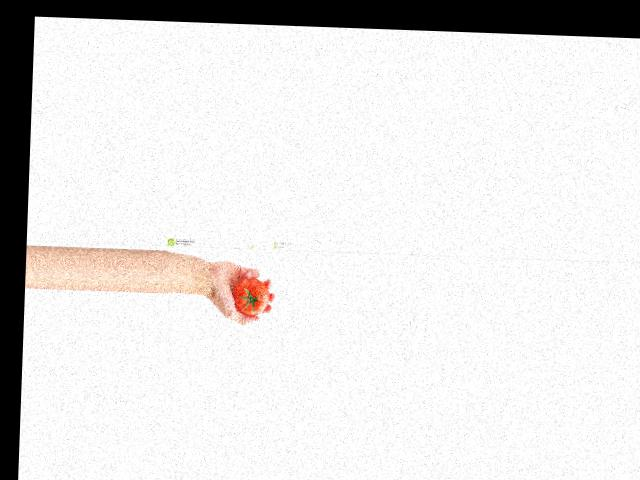tomato: (232, 276, 270, 315)
